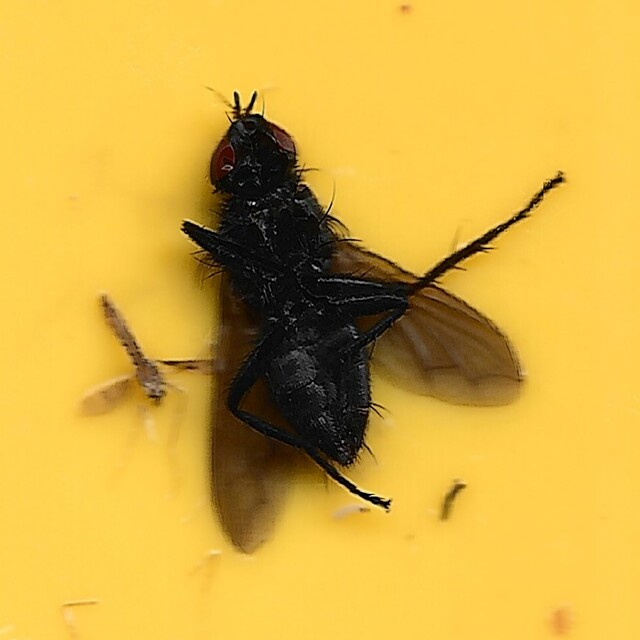Brachycera: (181, 87, 566, 553)
Nematocera: (74, 290, 224, 417)
